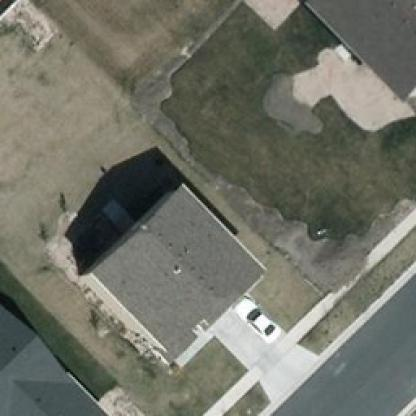car: (232, 292, 274, 341)
